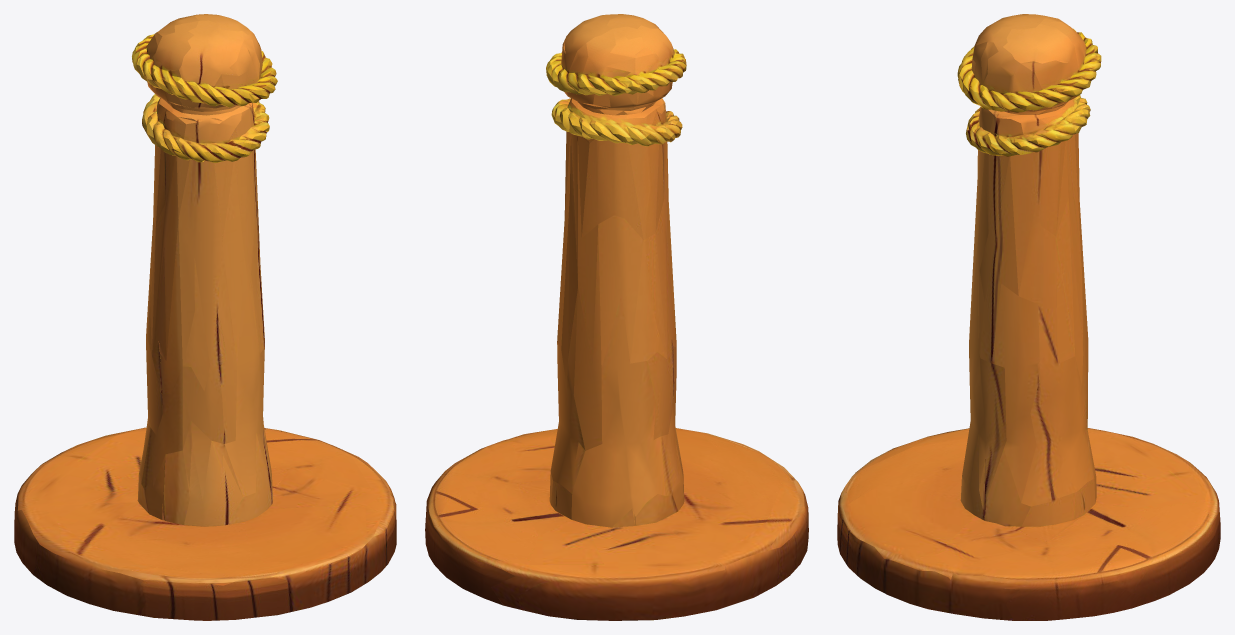
The model's file is rope-bridge-post.glb.
The picture shows the model from 3 angles, left to right: view 1: azimuth 30°, elevation 25°; view 2: azimuth 150°, elevation 25°; view 3: azimuth 270°, elevation 25°; orthographic projection.
Visible parts, largest first — view 1: mesh_node; view 2: mesh_node; view 3: mesh_node.
Part boxes in pixels (x1,y1,x2,y2): mesh_node: (14, 14, 396, 620); mesh_node: (425, 14, 808, 620); mesh_node: (837, 14, 1220, 620).
Size of the model in its own units: 1.28 by 1.9 by 1.28.
1 material, 1 textured.
